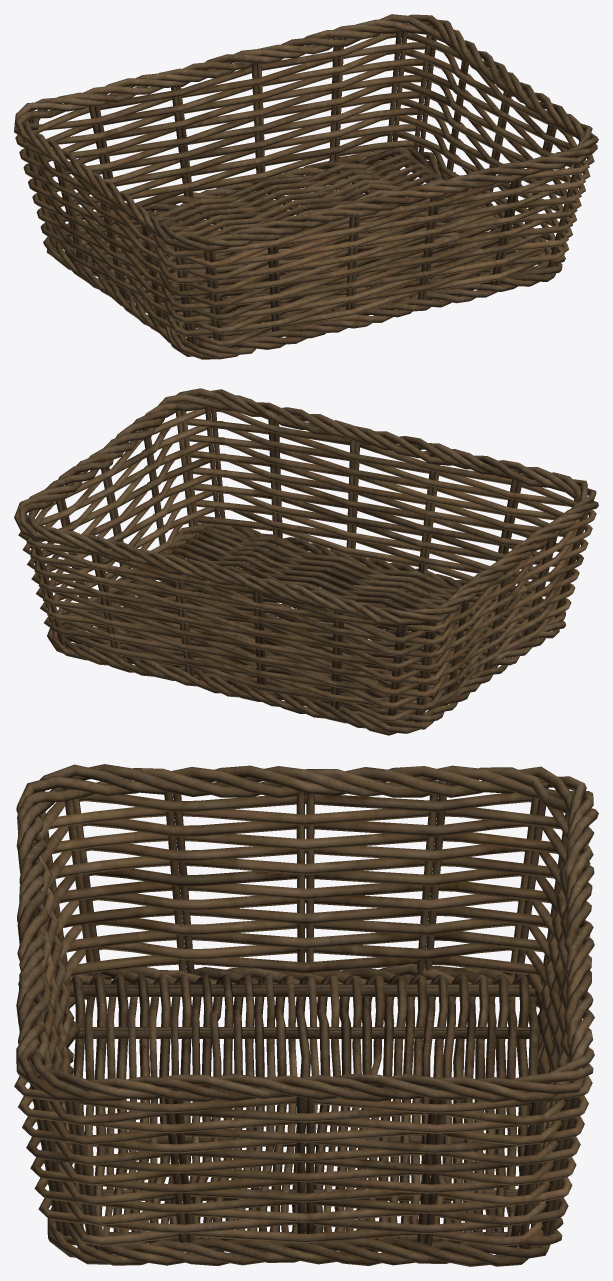
The model's file is basket.glb.
3 views of the same model, one above another, from view 1: azimuth 30°, elevation 25°; view 2: azimuth 150°, elevation 25°; view 3: azimuth 270°, elevation 25° (orthographic). The views are drawn at different scales.
Parts seen in each view (by area): view 1: wicker_basket_01; view 2: wicker_basket_01; view 3: wicker_basket_01.
Boxes of the visible parts, bbox=[...] form: wicker_basket_01: bbox=[14, 14, 598, 359]; wicker_basket_01: bbox=[14, 388, 598, 735]; wicker_basket_01: bbox=[14, 764, 598, 1266].
Bounding box in the file's own units: 0.3832 × 0.1174 × 0.295.
Materials: 1 (1 with a texture image).
